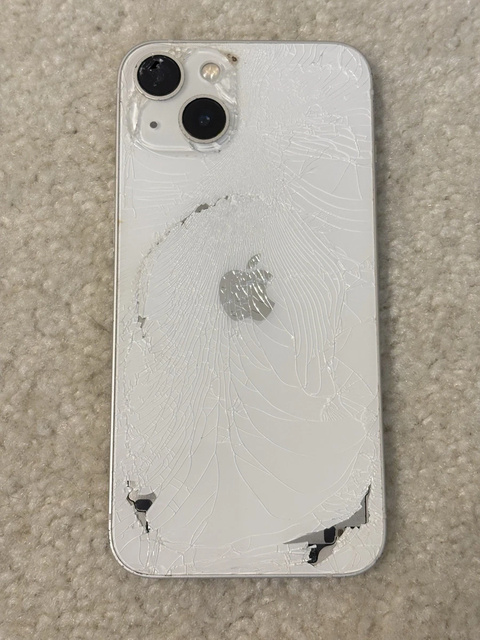crack_phone: (104, 33, 410, 587)
